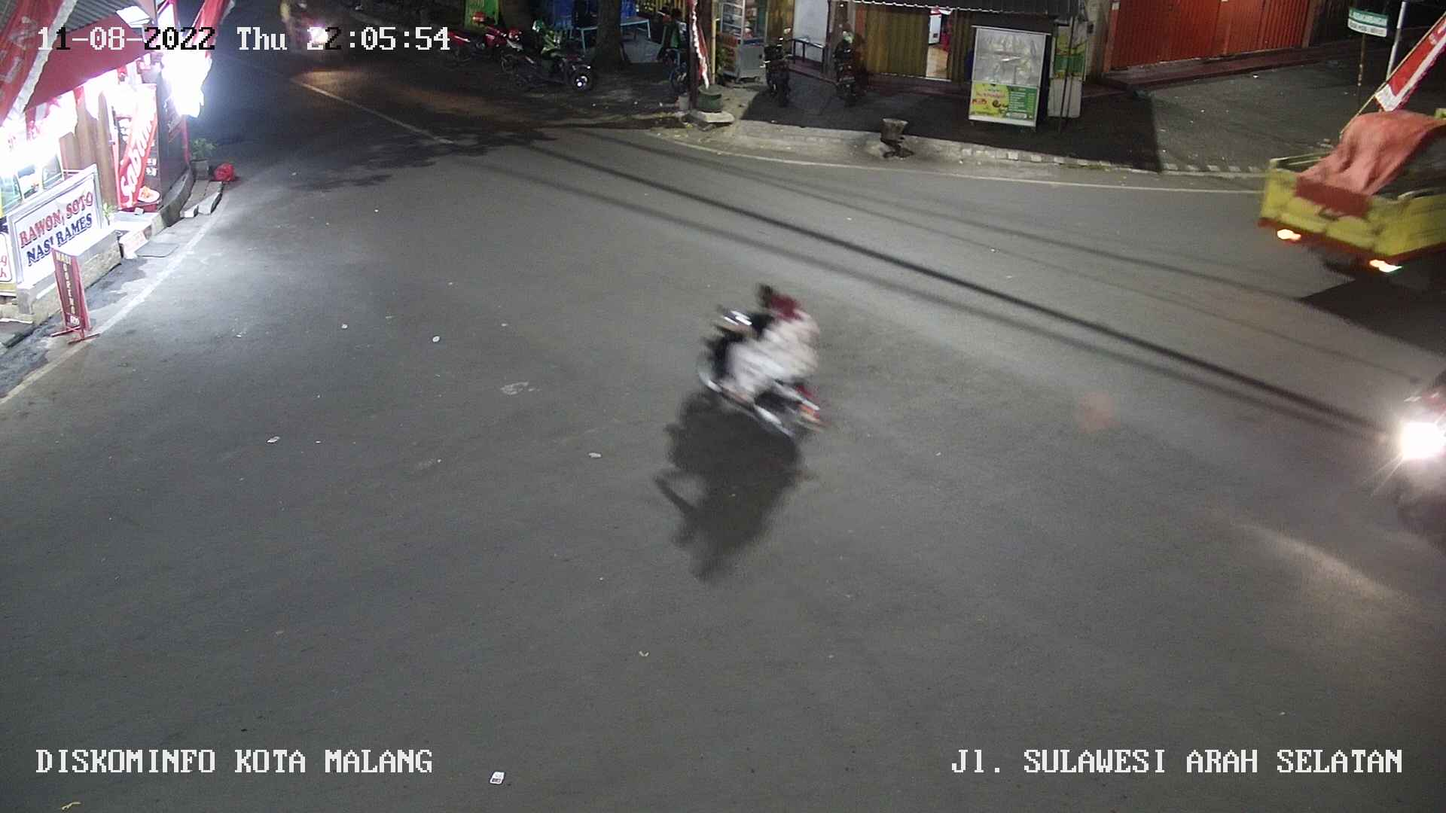without_helmet: (654, 268, 853, 495)
